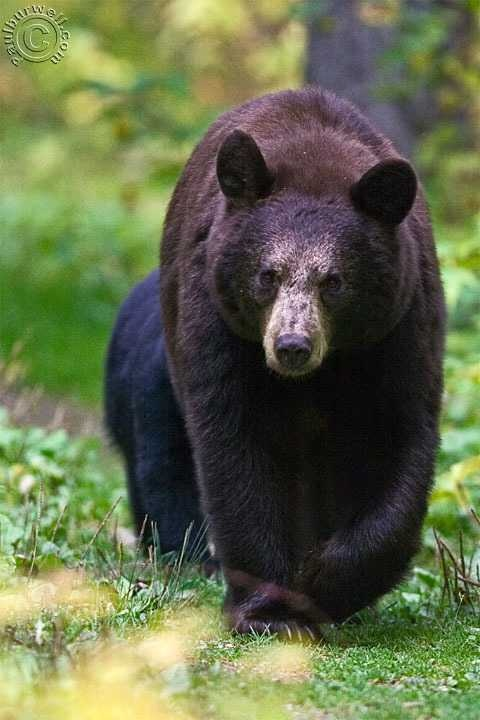bear: (229, 253, 357, 381), (194, 114, 322, 242), (320, 132, 448, 260), (213, 516, 341, 644)
